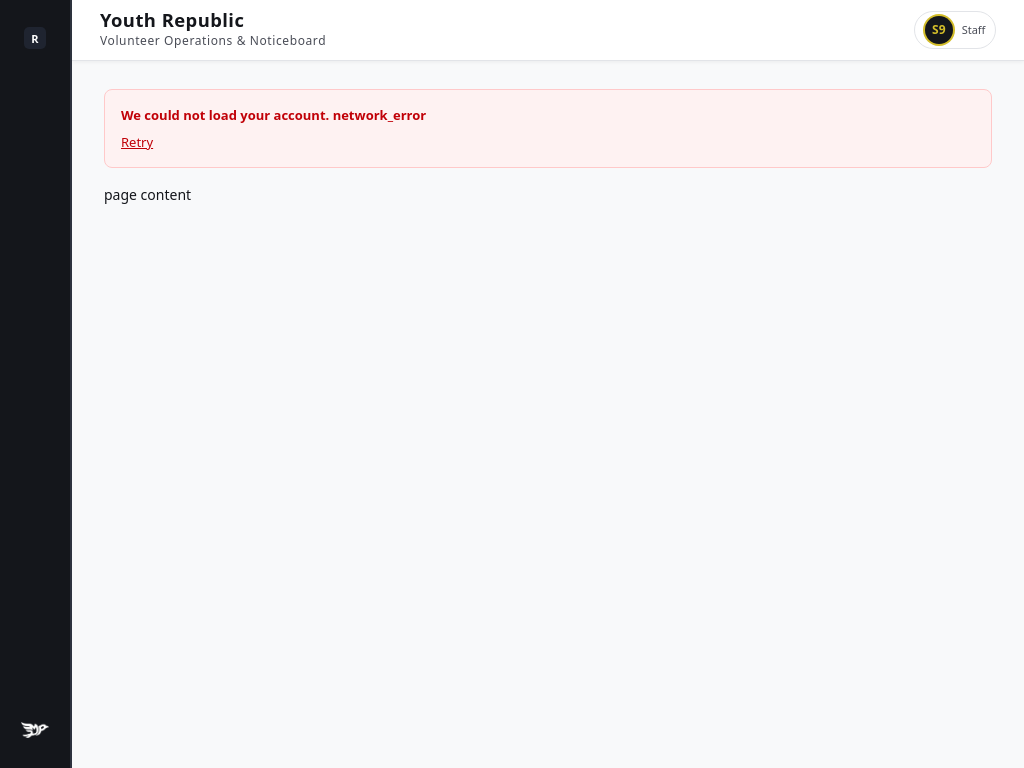
Test: AppShell › shows a visible error state (not a blank no-access shell) when loading claims fails, and can retry
Expected: the text "We could not load your account. network_error" is shown, [121,106,426,124]
Expected: the text "Recovered Person" is not shown
Click the button "Retry" at (137, 142), box [121,133,153,151]
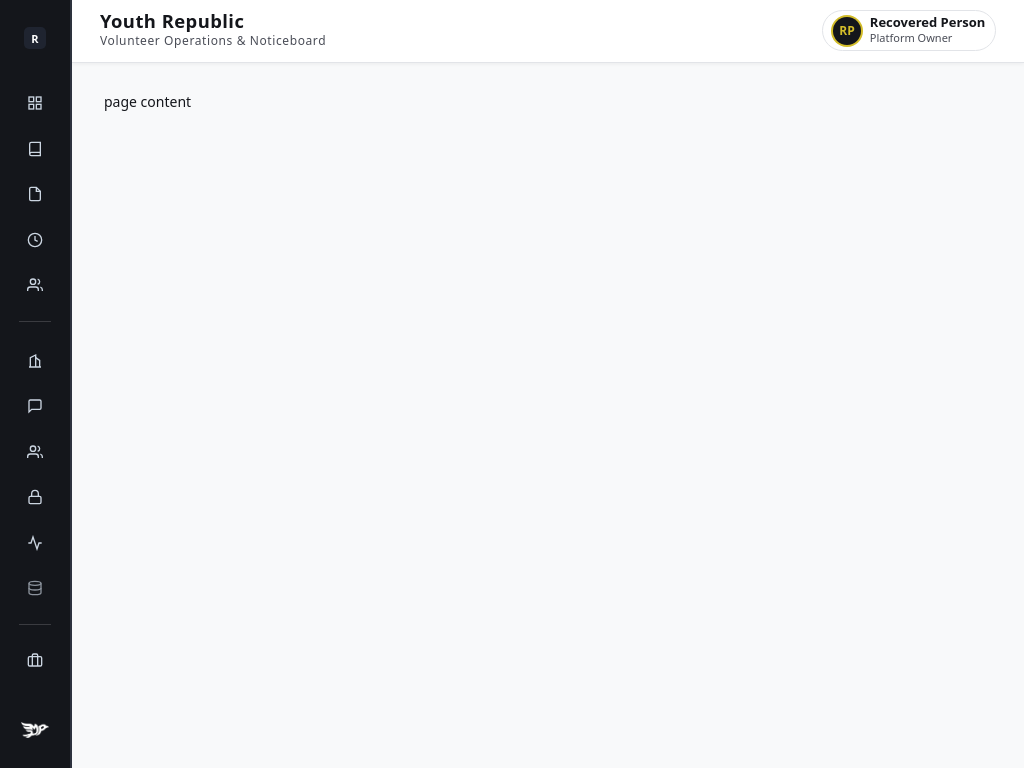
Expected: the text "Recovered Person" is shown, [870,15,985,30]
Expected: the text "could not load your account" is gone
